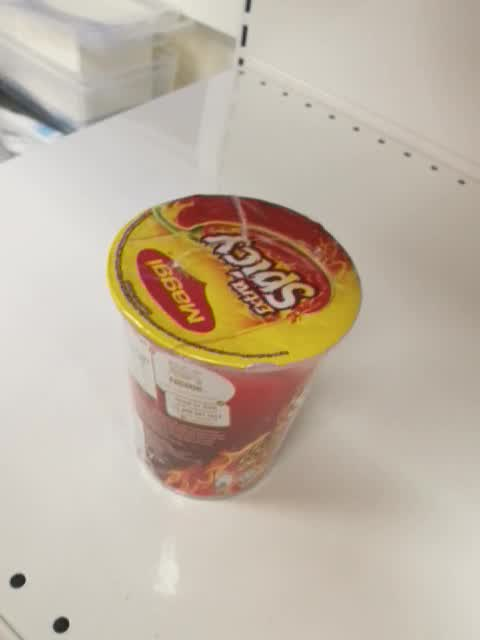maggi: (105, 193, 363, 503)
